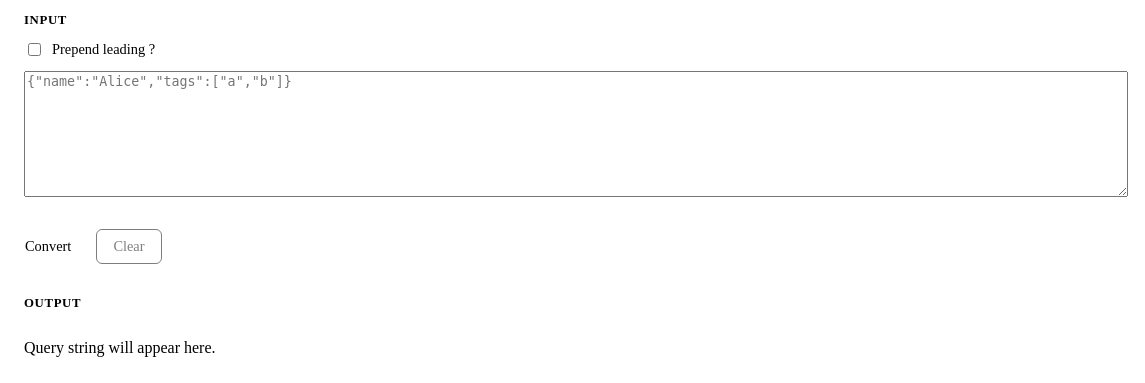
Test: JsonToQueryStringTool › shows an error for empty input
The image size is (1145, 383).
Click the button "Convert": (48, 246) [8,229,88,264]
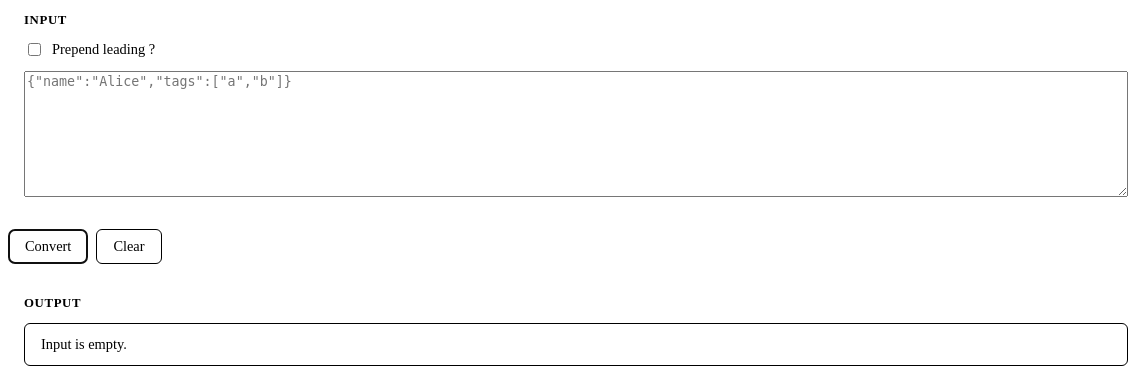
expect the message shows "Input is empty": met, box [41,336,127,352]
